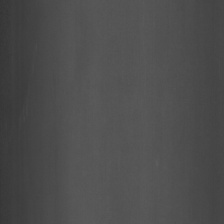silk_spot: (13, 65, 34, 138)
